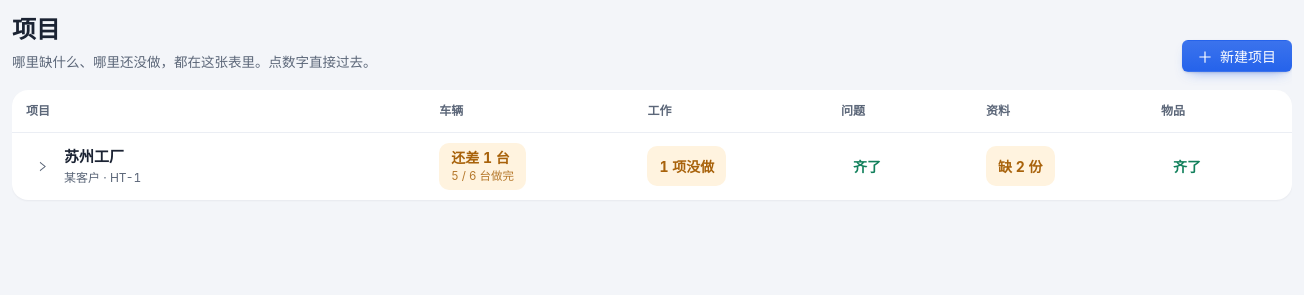
首页缺口总览 › lists every gap by name when a project is opened
Expected: the text "QF-003（3 号）：调试、交付" is not shown
Step 1. Click the button named "展开 苏州工厂 的缺口明细" → (42, 166), box x1=26 y1=150 x2=58 y2=182
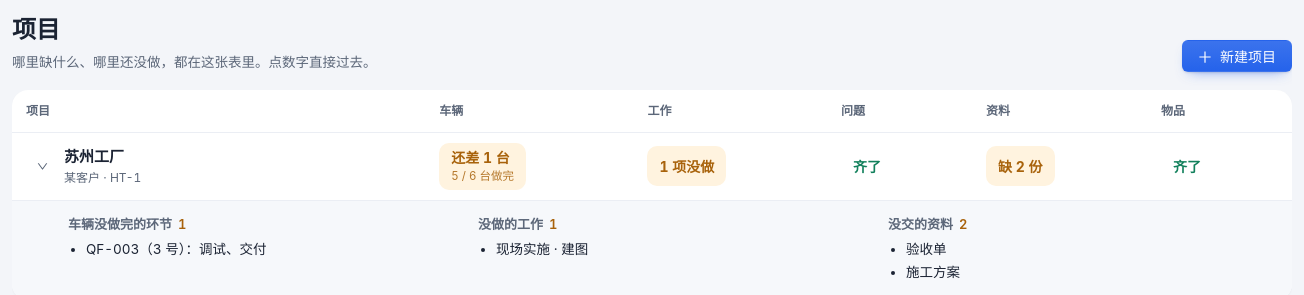
Result: the list item "QF-003（3 号）：调试、交付" is shown at x1=86 y1=241 x2=266 y2=257
Result: the list item "现场实施 · 建图" is shown at x1=496 y1=241 x2=588 y2=257
Result: the list item "验收单" is shown at x1=906 y1=241 x2=946 y2=257
